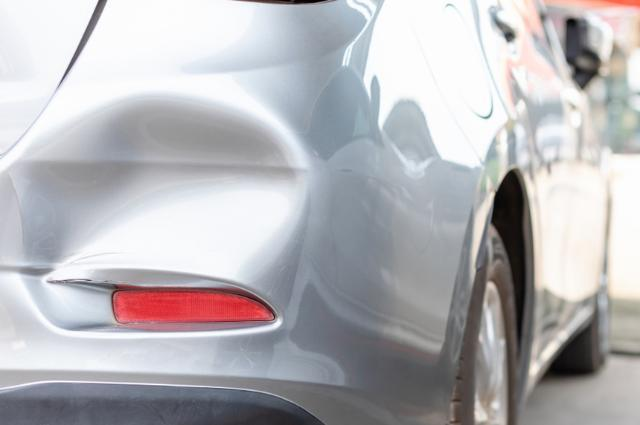Bumper: (0, 61, 328, 342)
